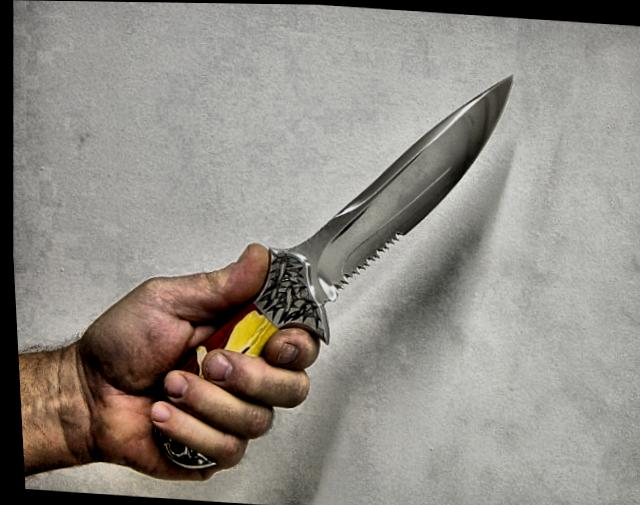knife: (135, 40, 535, 418)
